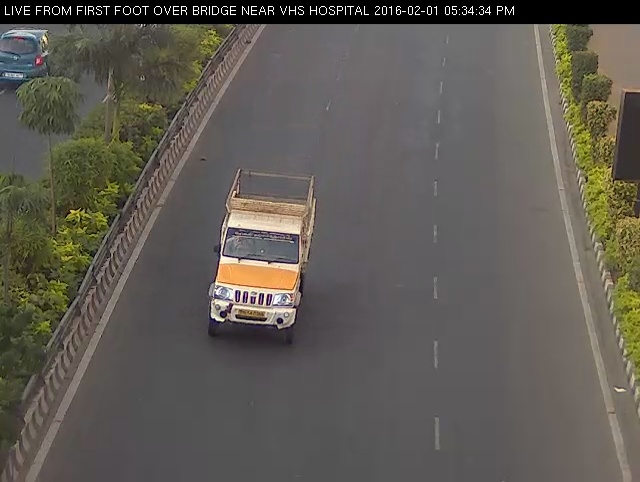Car: (197, 162, 326, 350)
